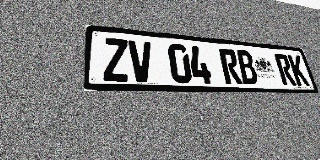0: (167, 43, 193, 83)
4: (187, 45, 212, 84)
B: (235, 50, 259, 85)
K: (287, 54, 310, 86)
R: (218, 48, 243, 84), (274, 53, 297, 86)
V: (128, 40, 154, 82)
Z: (103, 38, 129, 82)
